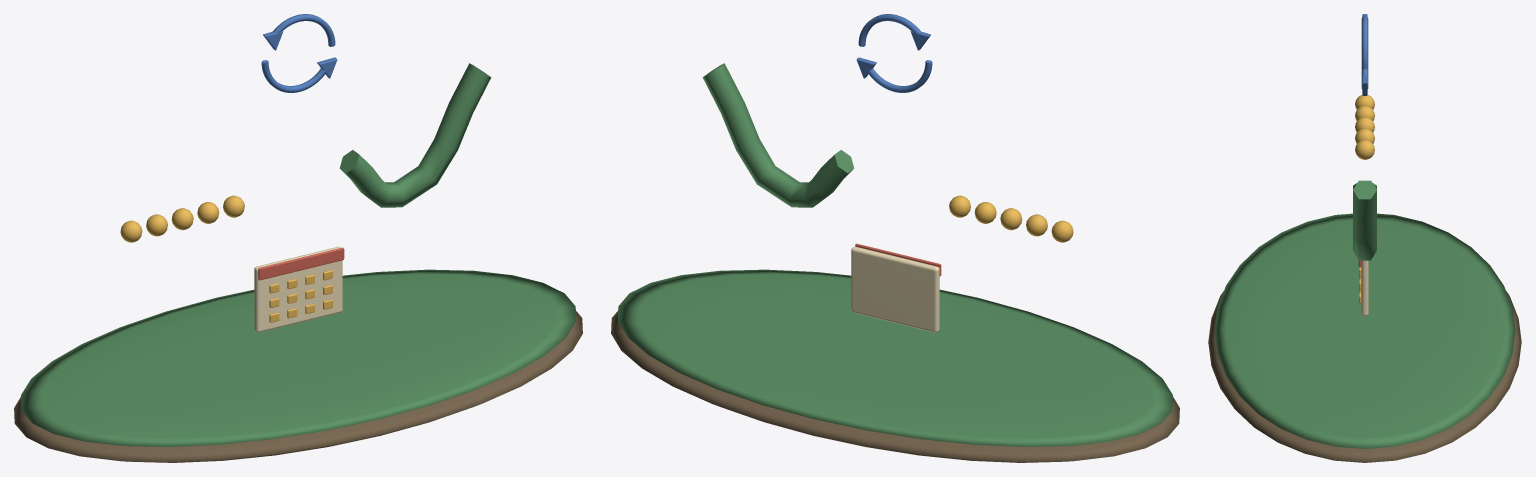
The model's file is complete-first-always-checked-dates.glb.
The picture shows the model from 3 angles, left to right: view 1: azimuth 30°, elevation 25°; view 2: azimuth 150°, elevation 25°; view 3: azimuth 270°, elevation 25°; orthographic projection. The views are drawn at different scales.
Parts seen in each view (by area): view 1: complete-first-always-checked-dates_surface_01, complete-first-always-checked-dates_surface_00, complete-first-always-checked-dates_surface_03, complete-first-always-checked-dates_surface_02, complete-first-always-checked-dates_surface_05, complete-first-always-checked-dates_surface_04; view 2: complete-first-always-checked-dates_surface_01, complete-first-always-checked-dates_surface_00, complete-first-always-checked-dates_surface_03, complete-first-always-checked-dates_surface_02, complete-first-always-checked-dates_surface_05; view 3: complete-first-always-checked-dates_surface_01, complete-first-always-checked-dates_surface_00, complete-first-always-checked-dates_surface_02, complete-first-always-checked-dates_surface_05, complete-first-always-checked-dates_surface_03.
Part boxes in pixels (bbox=[...]): complete-first-always-checked-dates_surface_01: bbox=[21, 63, 575, 446]; complete-first-always-checked-dates_surface_00: bbox=[14, 311, 582, 462]; complete-first-always-checked-dates_surface_03: bbox=[254, 246, 342, 332]; complete-first-always-checked-dates_surface_02: bbox=[120, 195, 332, 322]; complete-first-always-checked-dates_surface_05: bbox=[261, 14, 337, 92]; complete-first-always-checked-dates_surface_04: bbox=[258, 247, 344, 280]; complete-first-always-checked-dates_surface_01: bbox=[618, 63, 1172, 446]; complete-first-always-checked-dates_surface_00: bbox=[611, 311, 1179, 462]; complete-first-always-checked-dates_surface_03: bbox=[851, 246, 939, 332]; complete-first-always-checked-dates_surface_02: bbox=[949, 195, 1073, 242]; complete-first-always-checked-dates_surface_05: bbox=[856, 14, 932, 92]; complete-first-always-checked-dates_surface_01: bbox=[1214, 180, 1515, 448]; complete-first-always-checked-dates_surface_00: bbox=[1208, 291, 1521, 462]; complete-first-always-checked-dates_surface_02: bbox=[1355, 95, 1374, 303]; complete-first-always-checked-dates_surface_05: bbox=[1361, 14, 1368, 95]; complete-first-always-checked-dates_surface_03: bbox=[1361, 260, 1368, 316].
Size of the model in its own units: 4.56 by 2.97 by 2.5.
